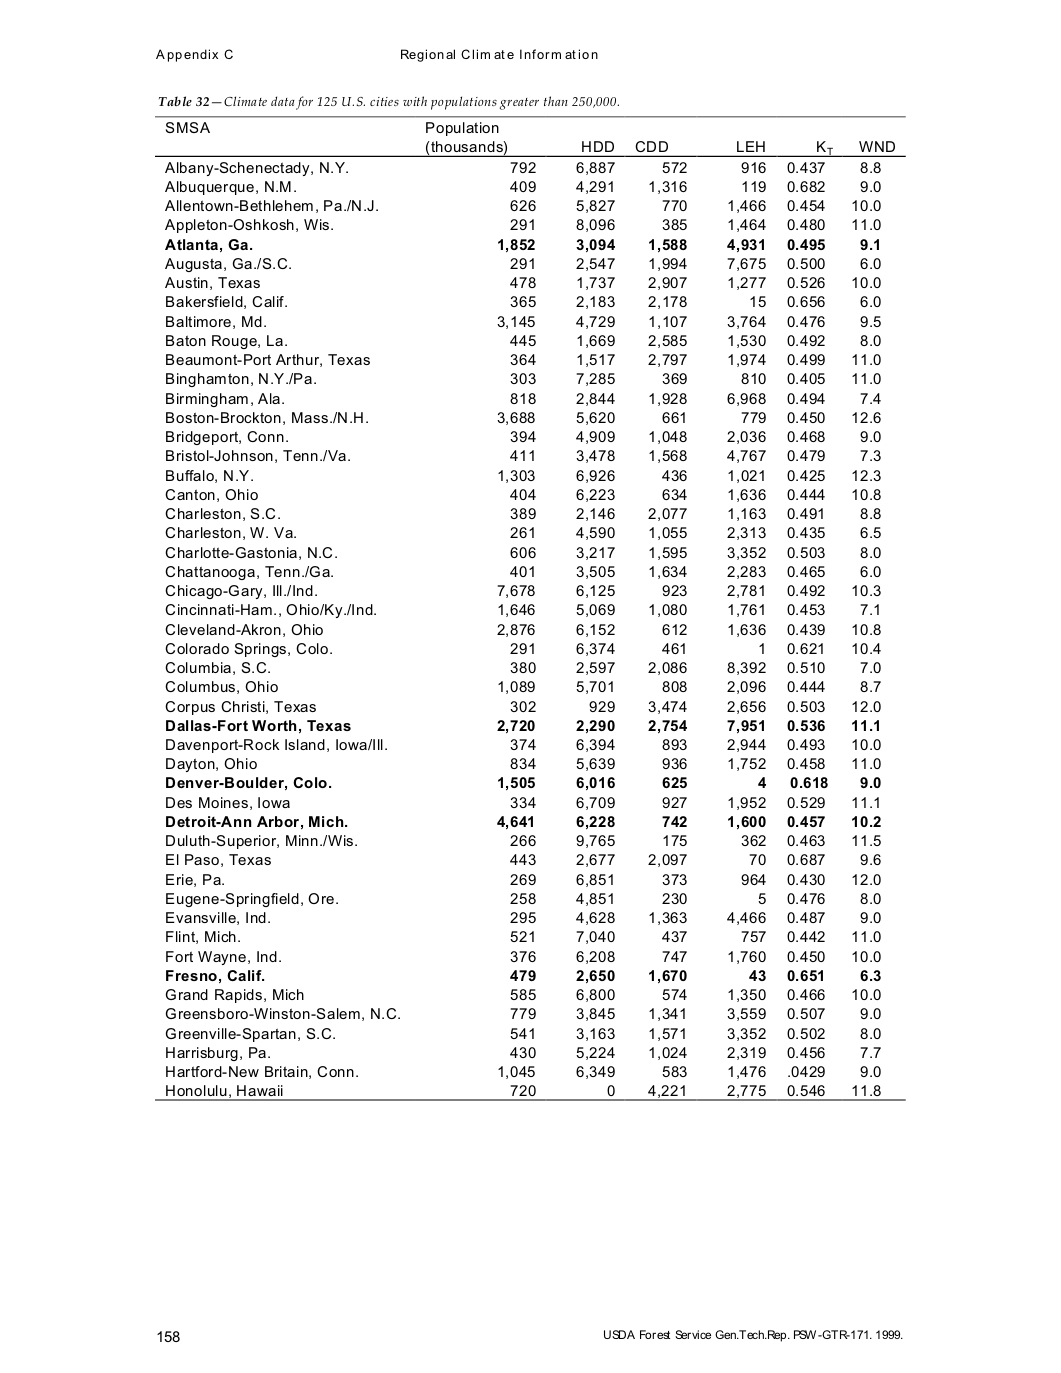Table: (155, 116, 905, 1100)
